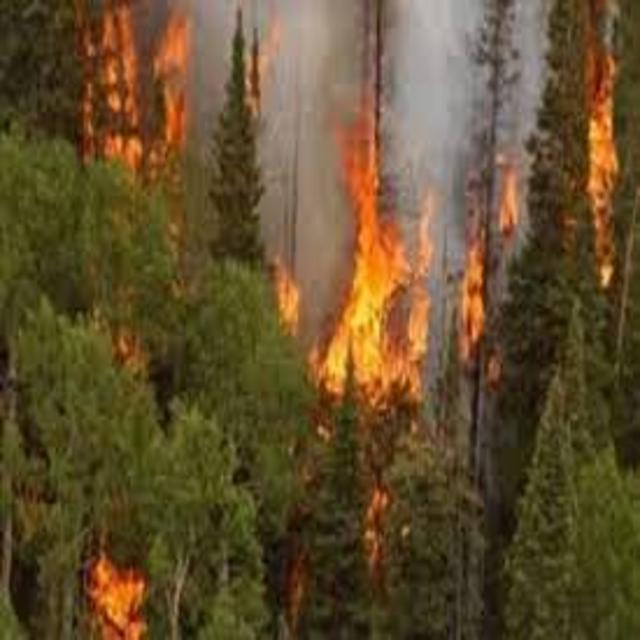Fire: (304, 91, 498, 426), (61, 0, 213, 199), (569, 18, 640, 308), (68, 534, 164, 640), (258, 246, 312, 341)
Smoke: (215, 1, 348, 249), (371, 0, 504, 234)
